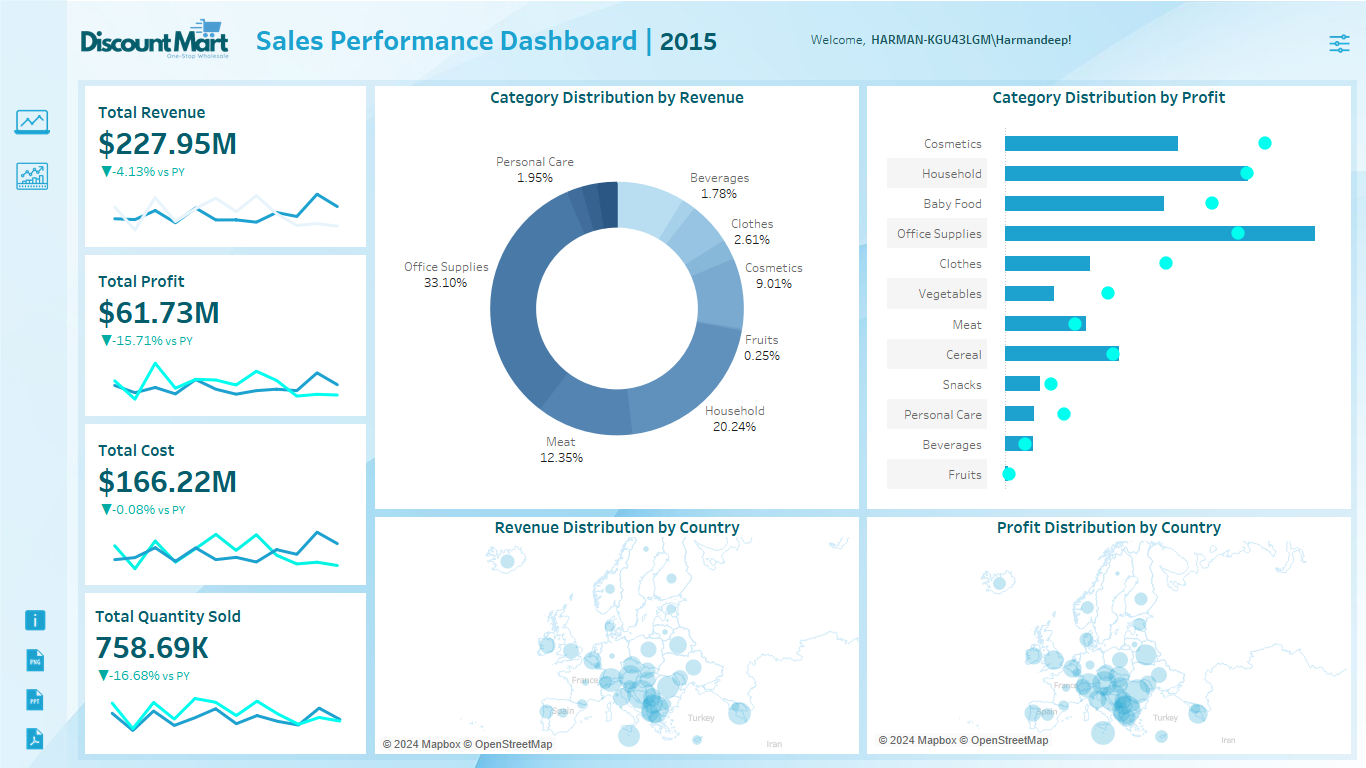

This screenshot's page, from the dashboard's own definition file:
{"tool":"tableau","page":{"name":"Overview","canvas":[1366,768],"ordinal":0},"visuals":[{"type":"image","param":"Image/desktop-wallpaper-blue-and-white-background-23-background-1024×768-in-2020","box":[0,0,1368,769]},{"type":"blank","box":[0,0,67,768]},{"type":"image","param":"Image/dis-removebg-preview.png","box":[70,9,173,60]},{"type":"text","box":[243,9,561,60]},{"type":"text","box":[804,9,526,60]},{"type":"parameter","param":"[Parameters].[Parameter 1]","box":[1099,9,116,60]},{"type":"filter","title":"Geo. Profit","param":"[federated.1magyn804czebi18gkr0s1swlet2].[none:Country:nk]","box":[1215,9,115,60]},{"type":"blank","box":[1330,9,20,60]},{"type":"dashboard-object","box":[1327,31,25,25]},{"type":"worksheet","title":"T.Revenue","mark":"Automatic","rows":["Calculation_1877156647801798664","~ CY Revenue (copy)_1877156647802163209"],"cols":["Order Date"],"box":[80,82,291,169]},{"type":"text","box":[375,86,484,22]},{"type":"text","box":[867,86,484,22]},{"type":"dashboard-object","box":[10,100,44,44]},{"type":"worksheet","title":"Cat. Revenue","mark":"Pie","rows":["Calculation_758856572450992129","Calculation_758856572450992129"],"box":[375,108,484,401]},{"type":"worksheet","title":"Cat. Profit","mark":"Automatic","rows":["Item Type"],"cols":["Calculation_1877156647860351010","~Profit CY (copy)_1877156647861444643"],"box":[867,108,484,401]},{"type":"blank","box":[10,144,44,10]},{"type":"dashboard-object","box":[10,154,44,44]},{"type":"worksheet","title":"T.Profits","mark":"Automatic","rows":["Calculation_1877156647860351010","~Profit CY (copy)_1877156647861444643"],"cols":["Order Date"],"box":[80,251,291,169]},{"type":"worksheet","title":"T.Cost","mark":"Automatic","rows":["~CY Cost (copy)_1877156647812583440","Calculation_1877156647812378639"],"cols":["Order Date"],"box":[80,420,291,169]},{"type":"text","box":[375,517,484,20]},{"type":"text","box":[867,517,484,20]},{"type":"worksheet","title":"Geo. Revenue","mark":"Multipolygon","box":[375,537,484,217]},{"type":"worksheet","title":"Geo. Profit","mark":"Multipolygon","box":[867,537,484,217]},{"type":"worksheet","title":"T.Qty","mark":"Automatic","rows":["Calculation_1877156647826604061","~ Quantity CY (copy)_1877156647827050526"],"cols":["Order Date"],"box":[80,589,291,169]},{"type":"dashboard-object","box":[10,600,50,40]},{"type":"dashboard-object","box":[10,640,50,40]},{"type":"dashboard-object","box":[10,680,50,39]},{"type":"dashboard-object","box":[10,719,50,39]}]}

Visuals, with their boxes in screenshot pixels (x1, y1, x2, y2), scaled from the page's 1366x768 canvas onto the 1366x768 screenshot:
image: {"x1": 0, "y1": 0, "x2": 1365, "y2": 767}
blank: {"x1": 0, "y1": 0, "x2": 67, "y2": 767}
image: {"x1": 70, "y1": 9, "x2": 243, "y2": 69}
text: {"x1": 243, "y1": 9, "x2": 804, "y2": 69}
text: {"x1": 804, "y1": 9, "x2": 1330, "y2": 69}
parameter: {"x1": 1099, "y1": 9, "x2": 1215, "y2": 69}
"Geo. Profit" filter: {"x1": 1215, "y1": 9, "x2": 1330, "y2": 69}
blank: {"x1": 1330, "y1": 9, "x2": 1350, "y2": 69}
dashboard-object: {"x1": 1327, "y1": 31, "x2": 1352, "y2": 56}
"T.Revenue" worksheet: {"x1": 80, "y1": 82, "x2": 371, "y2": 251}
text: {"x1": 375, "y1": 86, "x2": 859, "y2": 108}
text: {"x1": 867, "y1": 86, "x2": 1351, "y2": 108}
dashboard-object: {"x1": 10, "y1": 100, "x2": 54, "y2": 144}
"Cat. Revenue" worksheet (Pie marks): {"x1": 375, "y1": 108, "x2": 859, "y2": 509}
"Cat. Profit" worksheet: {"x1": 867, "y1": 108, "x2": 1351, "y2": 509}
blank: {"x1": 10, "y1": 144, "x2": 54, "y2": 154}
dashboard-object: {"x1": 10, "y1": 154, "x2": 54, "y2": 198}
"T.Profits" worksheet: {"x1": 80, "y1": 251, "x2": 371, "y2": 420}
"T.Cost" worksheet: {"x1": 80, "y1": 420, "x2": 371, "y2": 589}
text: {"x1": 375, "y1": 517, "x2": 859, "y2": 537}
text: {"x1": 867, "y1": 517, "x2": 1351, "y2": 537}
"Geo. Revenue" worksheet (Multipolygon marks): {"x1": 375, "y1": 537, "x2": 859, "y2": 754}
"Geo. Profit" worksheet (Multipolygon marks): {"x1": 867, "y1": 537, "x2": 1351, "y2": 754}
"T.Qty" worksheet: {"x1": 80, "y1": 589, "x2": 371, "y2": 758}
dashboard-object: {"x1": 10, "y1": 600, "x2": 60, "y2": 640}
dashboard-object: {"x1": 10, "y1": 640, "x2": 60, "y2": 680}
dashboard-object: {"x1": 10, "y1": 680, "x2": 60, "y2": 719}
dashboard-object: {"x1": 10, "y1": 719, "x2": 60, "y2": 758}
